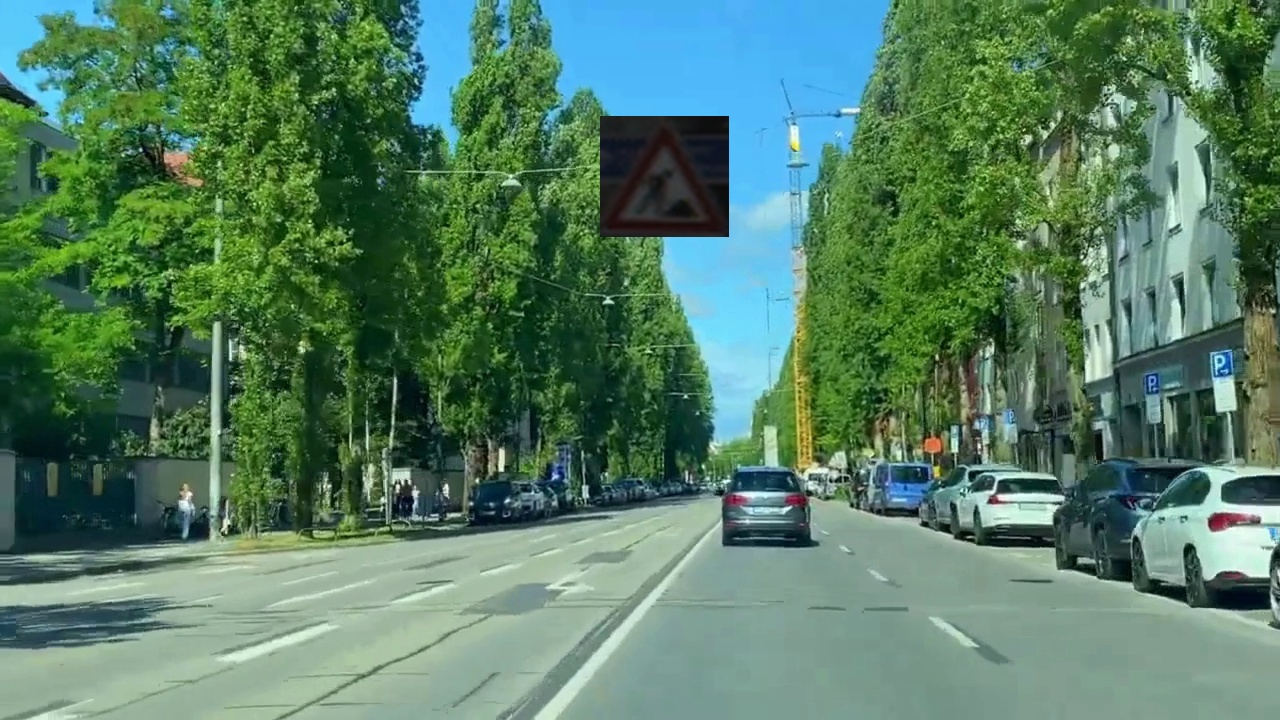Road work: (600, 116, 729, 237)
